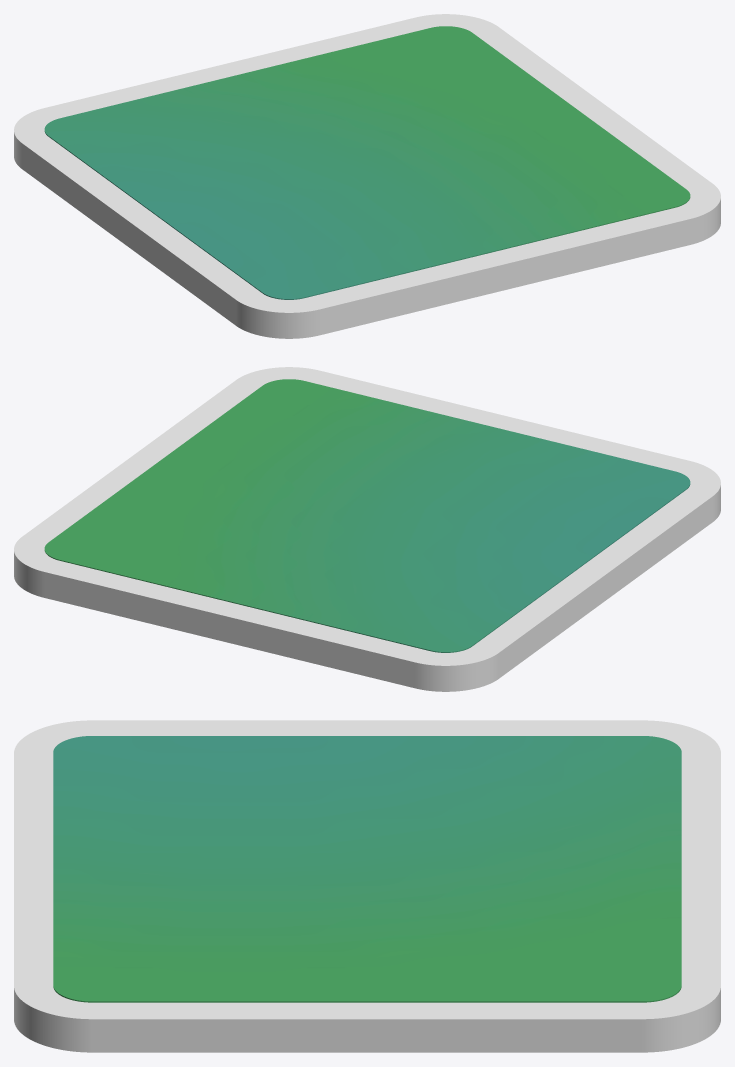
Rendered from Soup.glb.
3 renders of one model, top to bottom at view 1: azimuth 30°, elevation 25°; view 2: azimuth 150°, elevation 25°; view 3: azimuth 270°, elevation 25°, orthographic. The views are drawn at different scales.
Parts seen in each view (by area): view 1: Rectangle (×2); view 2: Rectangle (×2); view 3: Rectangle (×2).
Part boxes in pixels (bbox=[...]): Rectangle (×2): bbox=[14, 14, 720, 338]; Rectangle (×2): bbox=[14, 367, 720, 691]; Rectangle (×2): bbox=[14, 720, 720, 1052].
Size of the model in its own units: 0.576 by 0.031 by 0.576.
2 materials, 1 textured.
